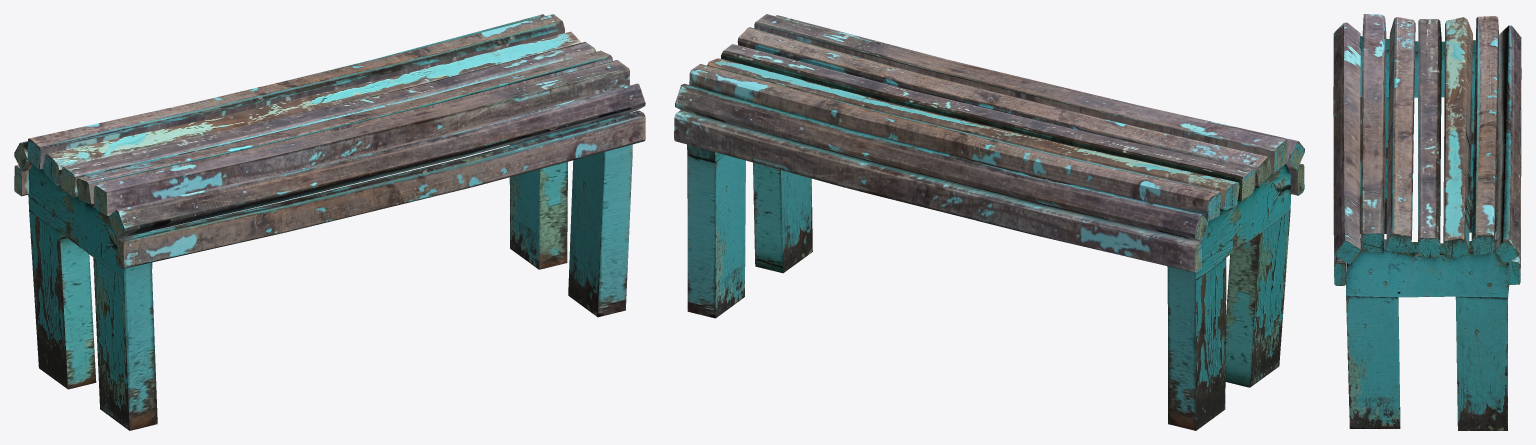
Rendered from bench_wooden_01.glb.
The picture shows the model from 3 angles, left to right: view 1: azimuth 30°, elevation 25°; view 2: azimuth 150°, elevation 25°; view 3: azimuth 270°, elevation 25°; orthographic projection. The views are drawn at different scales.
Parts seen in each view (by area): view 1: Bench_wooden_01; view 2: Bench_wooden_01; view 3: Bench_wooden_01.
Part boxes in pixels (x1,y1,x2,y2): Bench_wooden_01: (14, 14, 645, 430); Bench_wooden_01: (674, 14, 1304, 430); Bench_wooden_01: (1333, 14, 1521, 430).
Bounding box in the file's own units: 1.08 × 0.4698 × 0.3962.
Materials: 1 (1 with a texture image).
